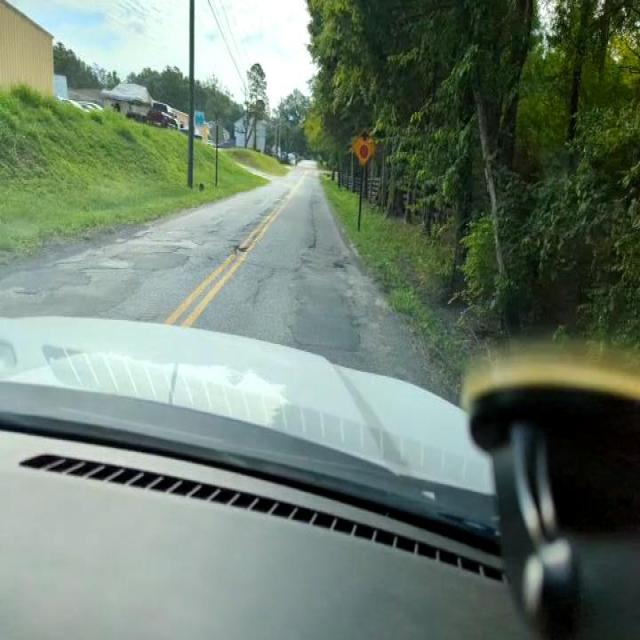pothole: (36, 223, 192, 317), (288, 240, 364, 357), (230, 225, 260, 260)
